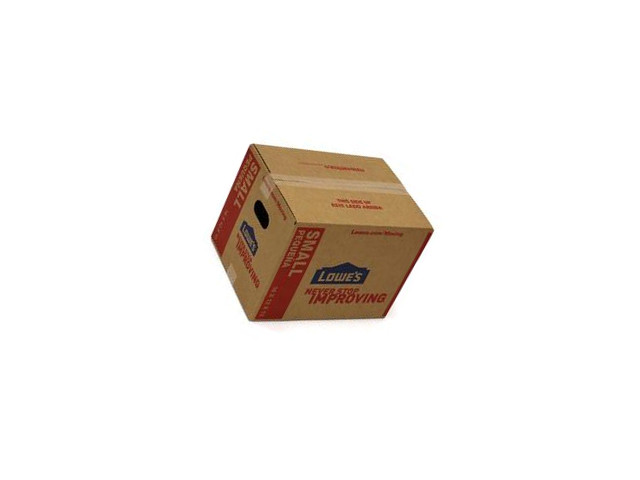cardboard: (210, 141, 433, 318)
